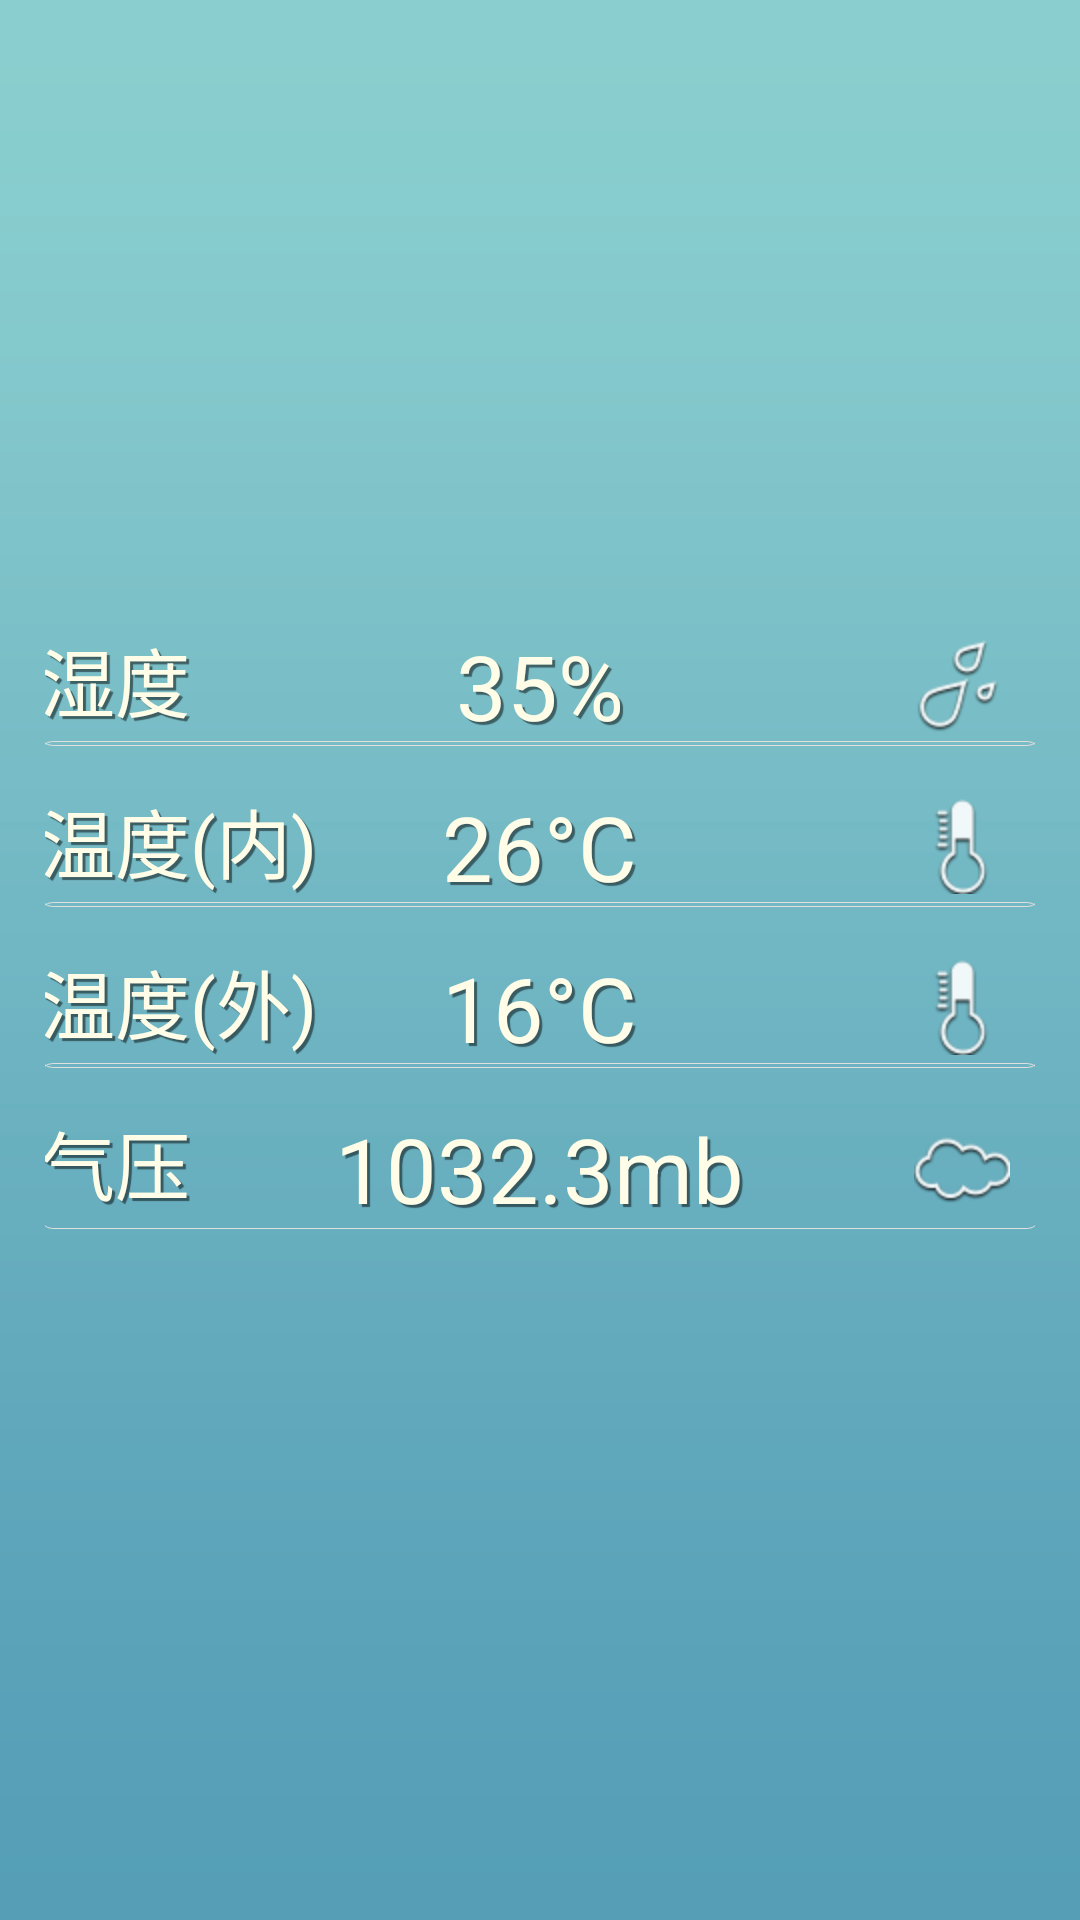

Where icons sit on this 1080*1920 app screen, as (x1, y1, x2, y2):
hum: (918, 641, 997, 731)
